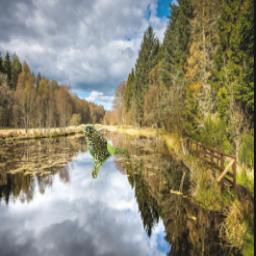Sparrow: (82, 124, 128, 179)
